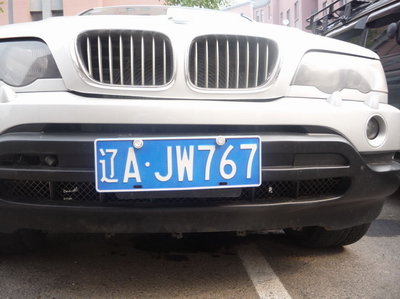plate_number: (95, 137, 264, 191)
